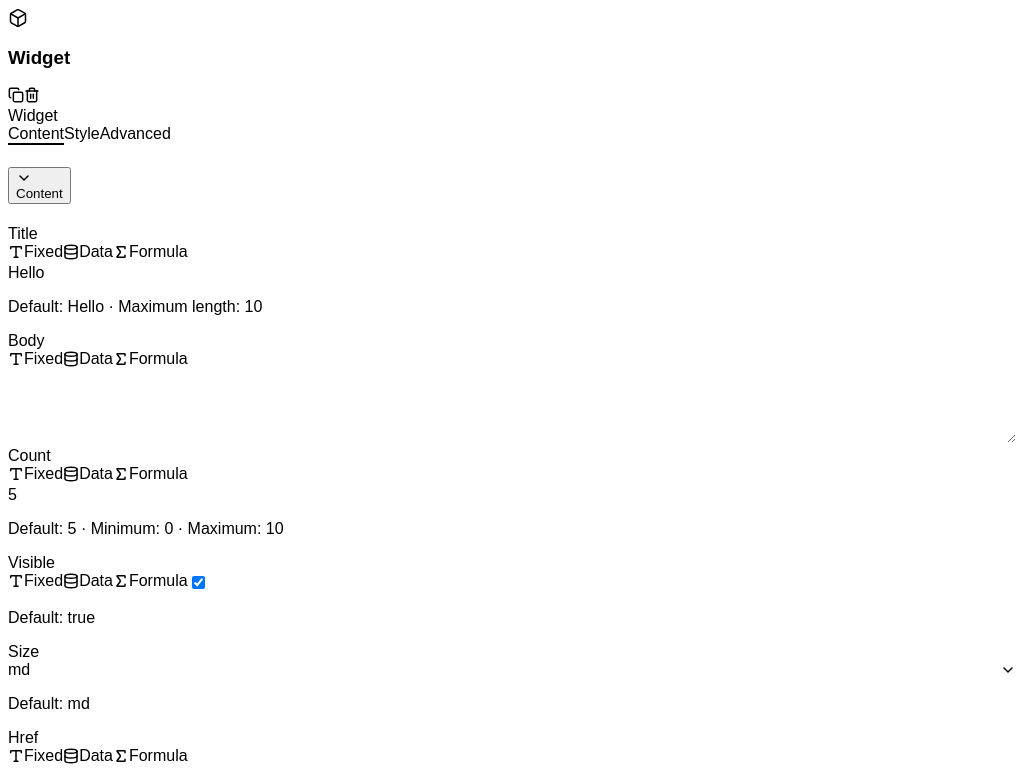
Scenario: Inspector › leaves the Style tab to the style inspector
Press the mouse on the tab "Style" at (82, 135), box [64,125,100,145]
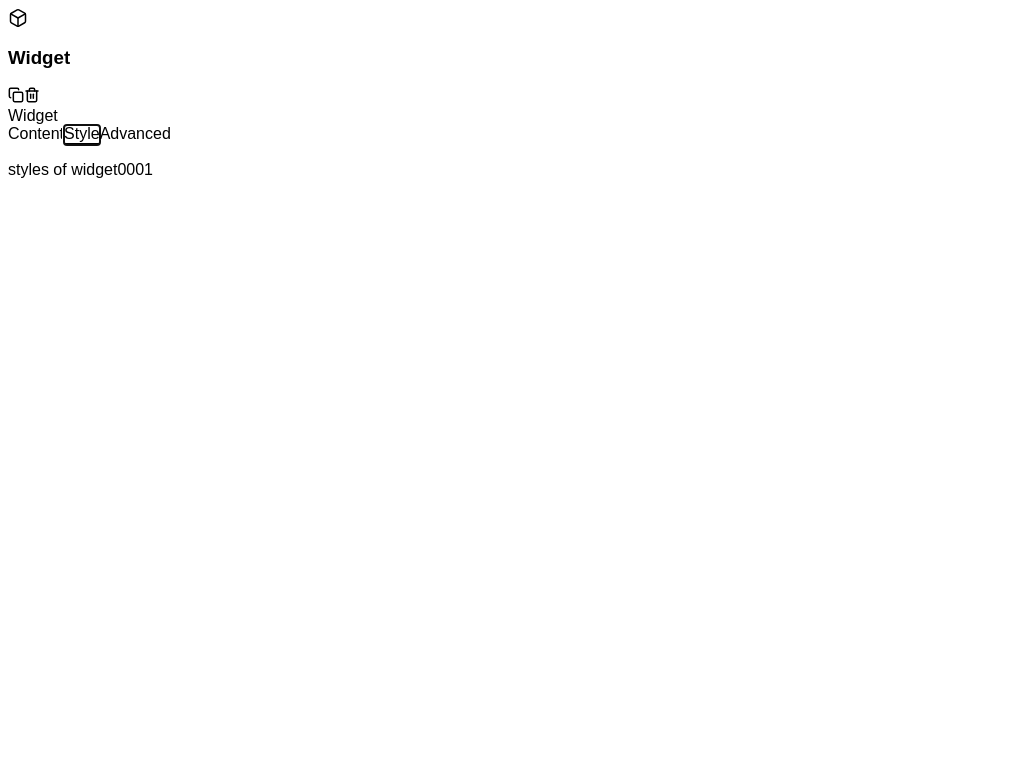
Check: the text "styles of widget0001" is shown, box [8,161,153,178]
